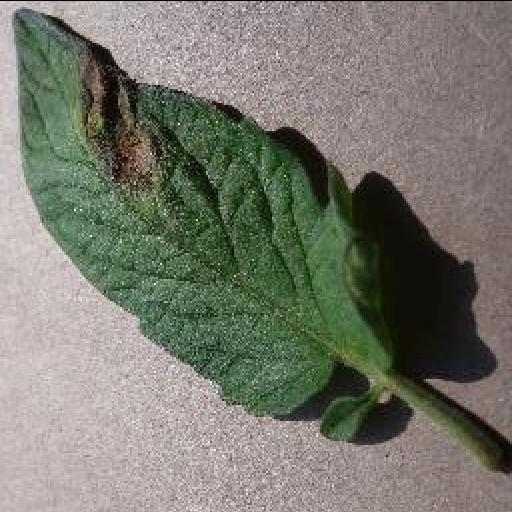disease_tomato: (10, 7, 398, 417)
